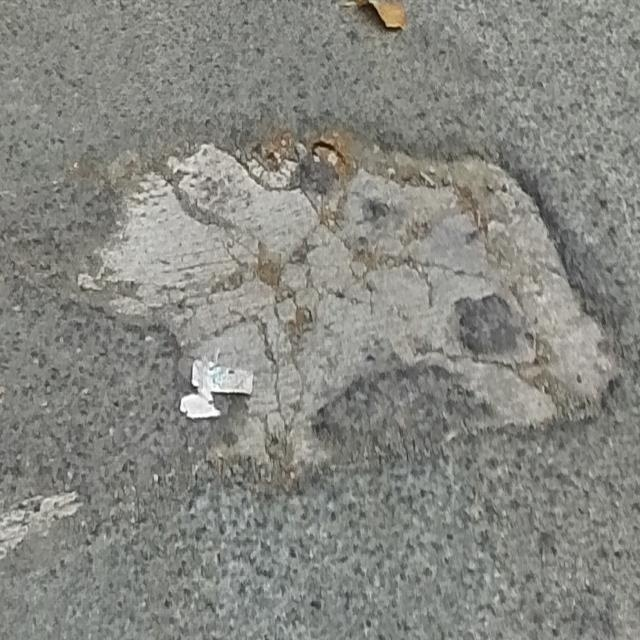pothole: (76, 117, 621, 476)
